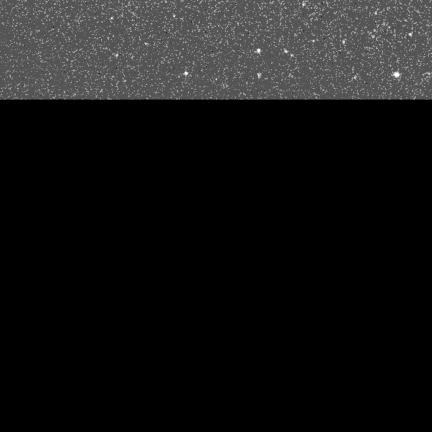blob: (394, 72, 399, 77), (257, 49, 261, 53), (409, 33, 413, 37)
